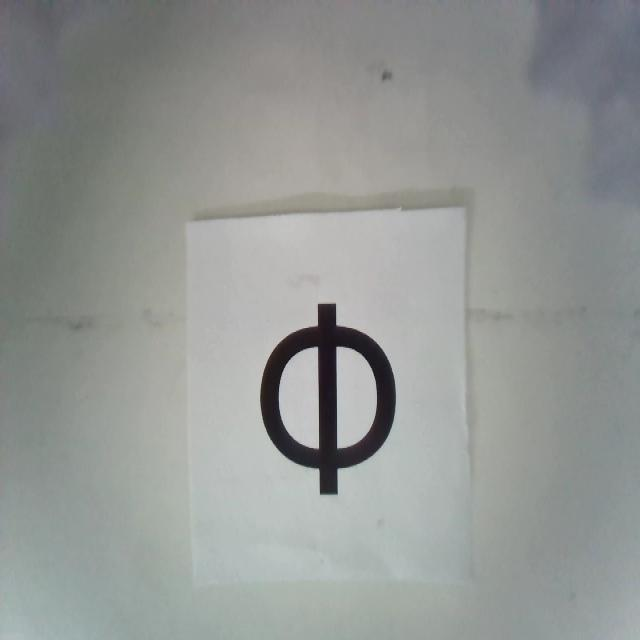F: (260, 304, 397, 490)
